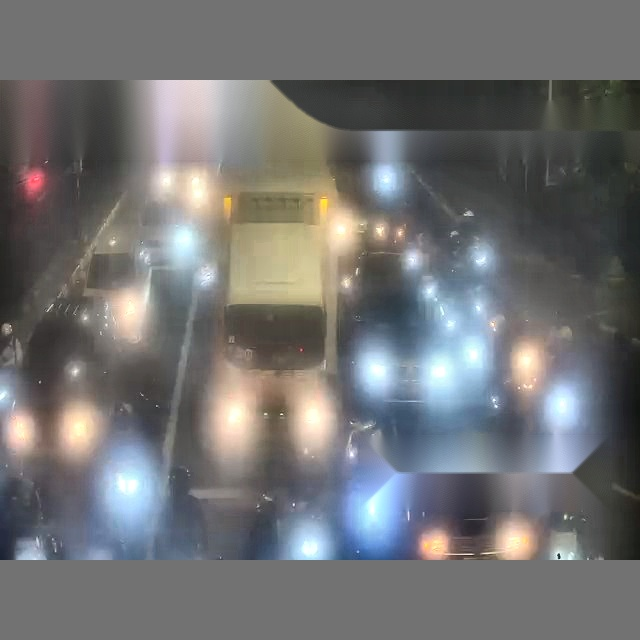Mobil: (399, 432, 518, 570), (24, 306, 109, 463), (347, 298, 455, 420), (73, 235, 164, 355), (126, 187, 205, 289)
Motor: (182, 489, 316, 579), (494, 310, 554, 405), (352, 238, 420, 302), (103, 460, 166, 529), (449, 207, 498, 277)
Truk: (211, 80, 340, 473)
